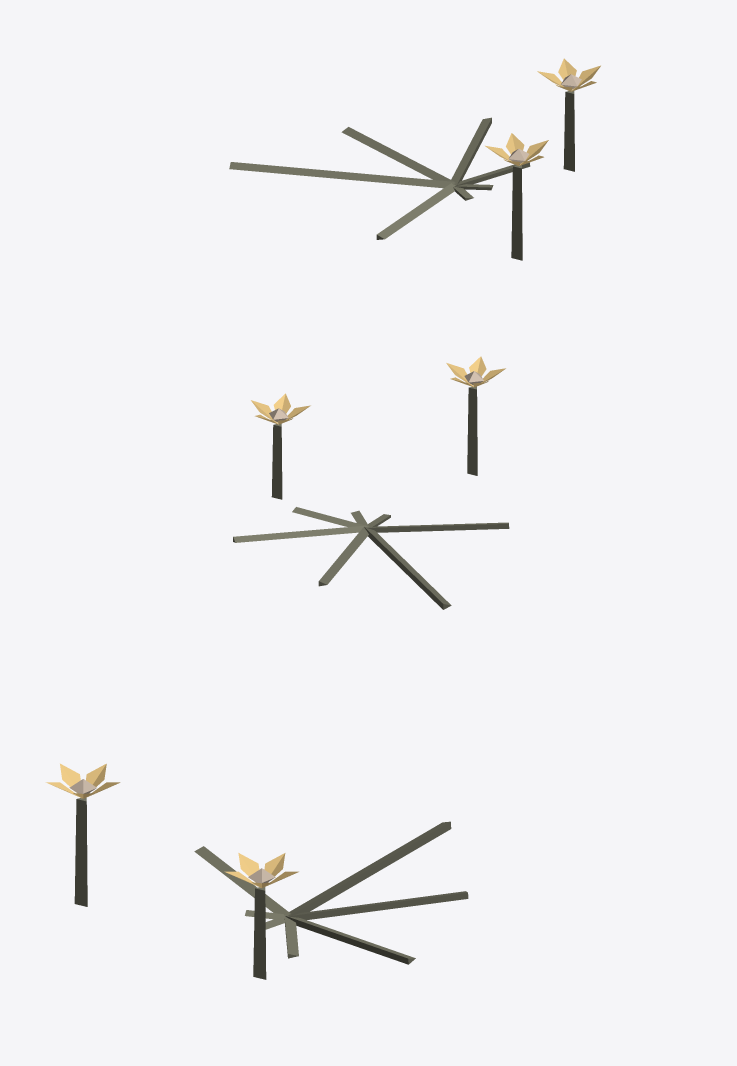
The model's file is shui.pingpeng__winter.glb.
3 views of the same model, one above another, from view 1: azimuth 30°, elevation 25°; view 2: azimuth 150°, elevation 25°; view 3: azimuth 270°, elevation 25° (orthographic). The views are drawn at different scales.
Parts seen in each view (by area): view 1: shui.pingpeng__winter; view 2: shui.pingpeng__winter; view 3: shui.pingpeng__winter.
Part boxes in pixels (bbox=[...]): shui.pingpeng__winter: bbox=[229, 58, 600, 260]; shui.pingpeng__winter: bbox=[233, 356, 509, 609]; shui.pingpeng__winter: bbox=[46, 763, 468, 979].
Bounding box in the file's own units: 1.28 × 0.2344 × 1.15.
